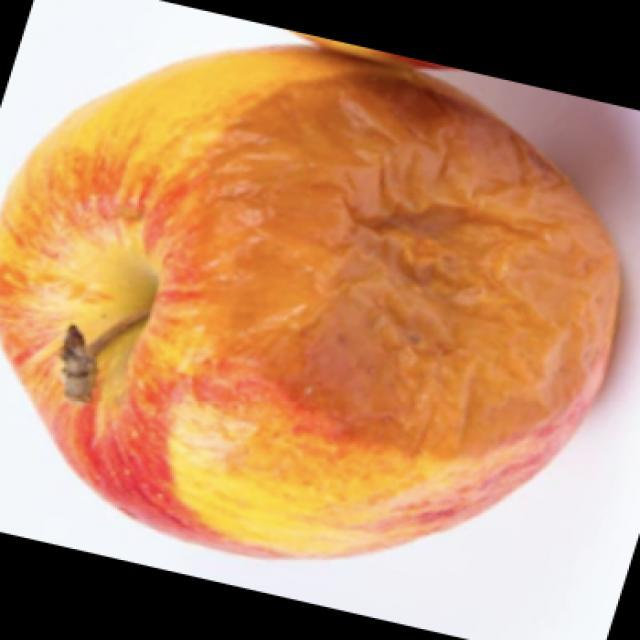Rotten: (30, 43, 617, 560)
